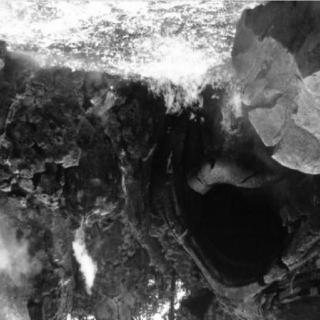Fire: (119, 58, 252, 190), (58, 223, 109, 289)
